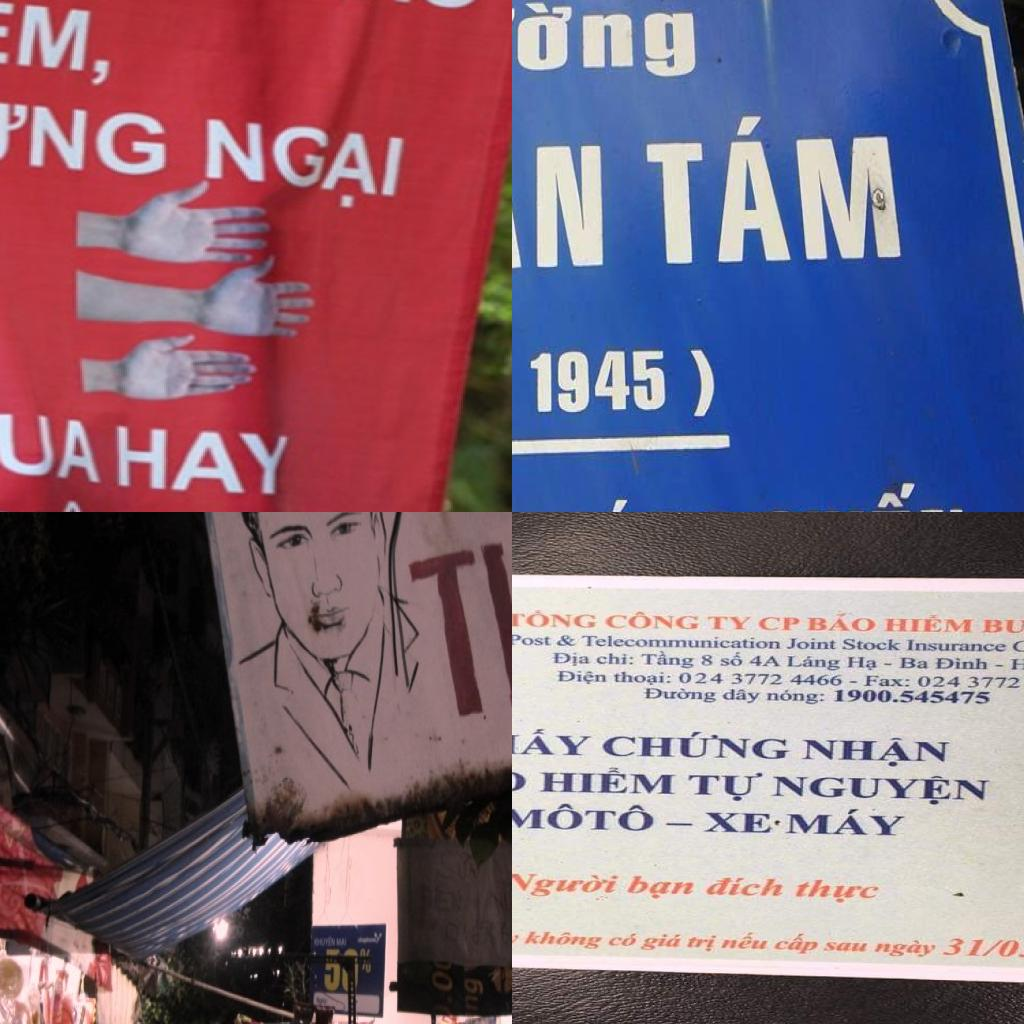text: (643, 106, 904, 268), (406, 512, 512, 761), (180, 111, 416, 217), (0, 73, 172, 180), (512, 0, 700, 89), (512, 118, 606, 278), (111, 422, 297, 501), (0, 0, 127, 91), (529, 347, 670, 419), (0, 405, 107, 489), (770, 773, 994, 807), (600, 730, 794, 762), (286, 0, 512, 23), (800, 736, 952, 770), (512, 800, 659, 834), (535, 765, 680, 798), (782, 808, 911, 838), (579, 634, 782, 652), (512, 871, 623, 900), (830, 689, 994, 706), (787, 878, 889, 905), (676, 672, 847, 688), (684, 771, 766, 803), (512, 726, 596, 757), (323, 947, 374, 998), (620, 874, 703, 901), (688, 346, 718, 420), (701, 876, 796, 899), (522, 928, 608, 952), (604, 611, 702, 632), (881, 614, 976, 634), (512, 608, 599, 629), (700, 811, 776, 835), (433, 846, 482, 883), (870, 937, 946, 960), (916, 675, 1024, 691), (804, 612, 878, 634), (904, 639, 1009, 653), (770, 930, 825, 956), (718, 931, 777, 953), (640, 688, 718, 704), (764, 688, 828, 707), (639, 650, 697, 670), (556, 669, 612, 688), (785, 654, 844, 672), (613, 670, 675, 687), (462, 974, 487, 1014), (432, 967, 455, 1009), (840, 637, 904, 652), (638, 933, 687, 952), (933, 656, 990, 672), (705, 615, 755, 632), (684, 933, 722, 954), (980, 616, 1024, 634), (863, 674, 912, 690), (785, 637, 840, 651), (549, 651, 594, 668), (721, 688, 763, 706), (755, 616, 802, 632), (820, 940, 872, 954), (512, 632, 554, 647), (605, 931, 642, 948), (845, 655, 881, 672), (596, 652, 636, 667), (747, 654, 784, 670), (718, 651, 746, 668), (898, 656, 932, 670), (313, 934, 337, 949), (554, 634, 578, 648), (512, 928, 524, 950), (699, 654, 716, 668), (1009, 657, 1024, 671), (336, 937, 349, 950)
